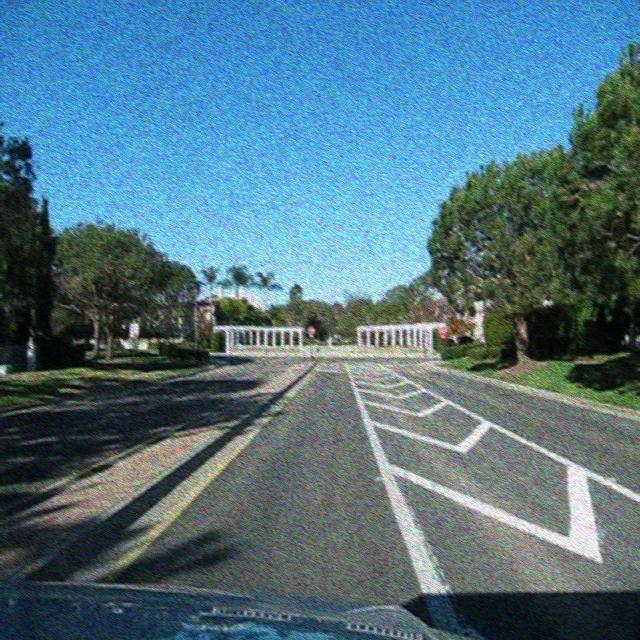stop_sign: (438, 324, 447, 337), (307, 324, 315, 335)
